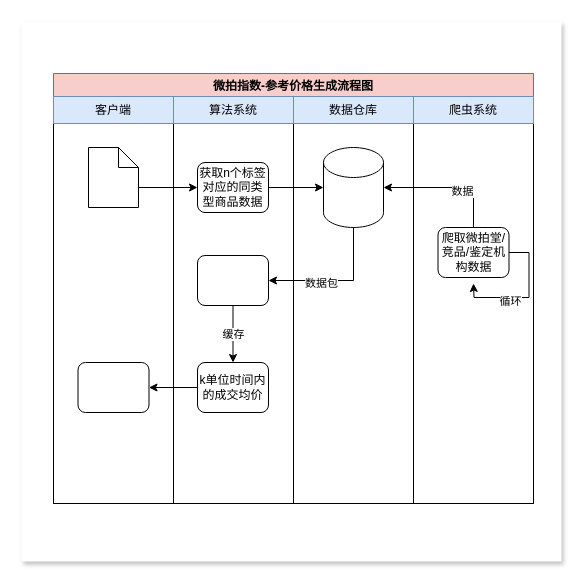
This 584x585 diagram has some shape labels left out. The centre of each missing label's shape, as x and y in pixels:
"全网数据源" goes at [353,187].
"参考价格范围" goes at [113,387].
"处理商品数据" goes at [232,280].
"拍品页" goes at [113,177].
